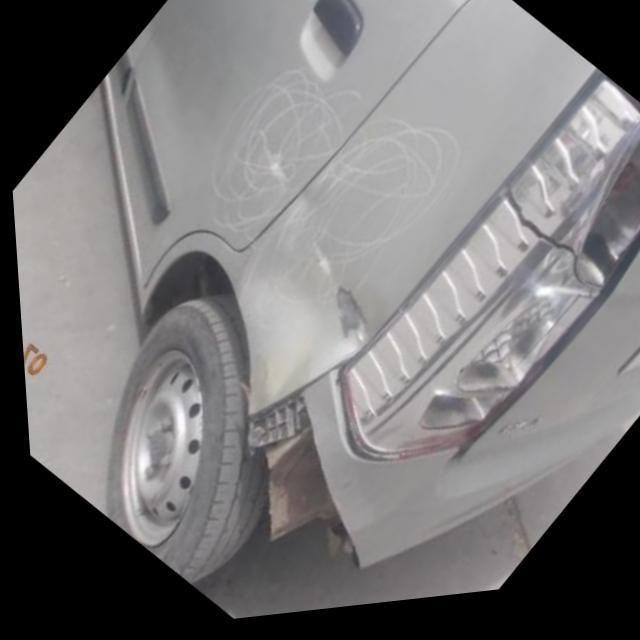dent: (326, 291, 368, 357)
lamp broken: (492, 195, 596, 318)
no part: (235, 396, 351, 581)
rub: (224, 121, 470, 340), (194, 68, 362, 251), (241, 143, 296, 203), (292, 237, 337, 301)
